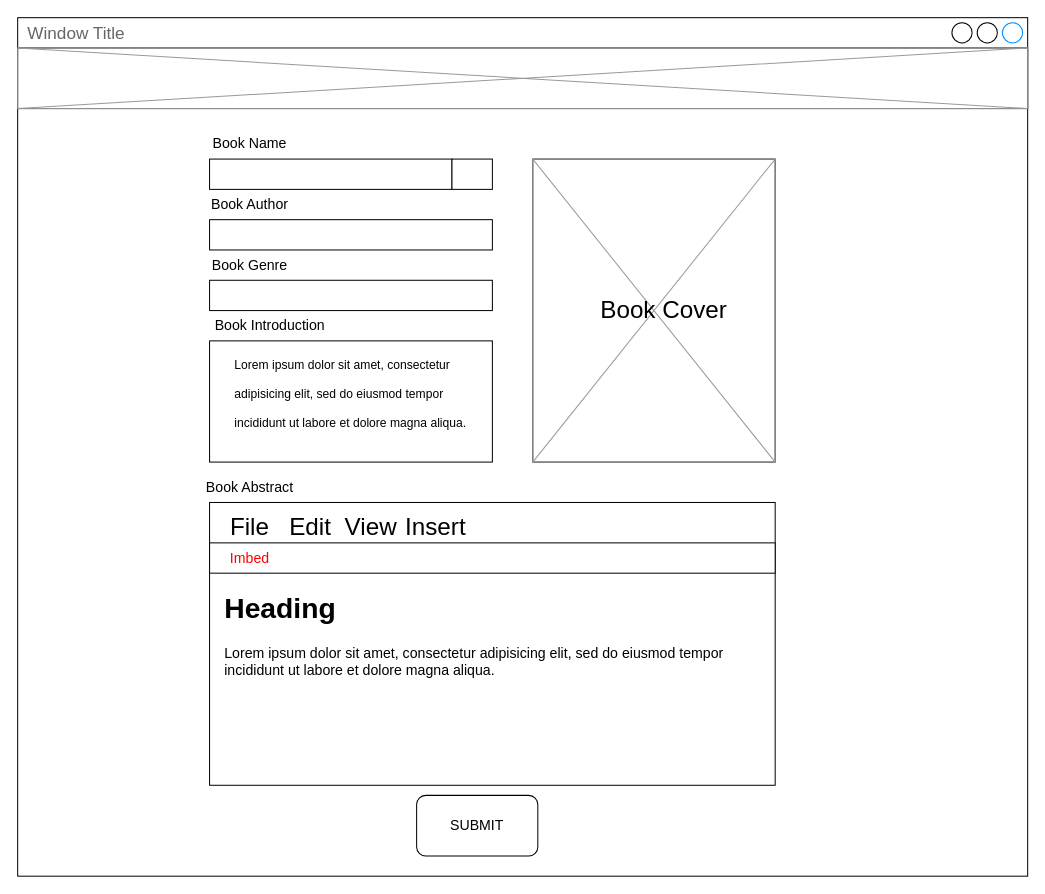
Image size: 1045x894. Some labels were removed from this diagram. Here are the shapes that lost their labels. From the top down, the centre of each, then its label:
At point (522, 78): "Nav bar".
At point (471, 173): "Search".
